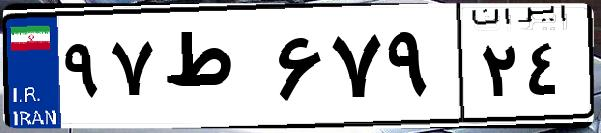2: (475, 38, 525, 113)
4: (525, 38, 570, 115)
6: (270, 28, 330, 110)
7: (330, 28, 385, 110), (110, 28, 158, 98)
9: (385, 28, 445, 110), (57, 26, 110, 100)
ط: (158, 20, 270, 120)
